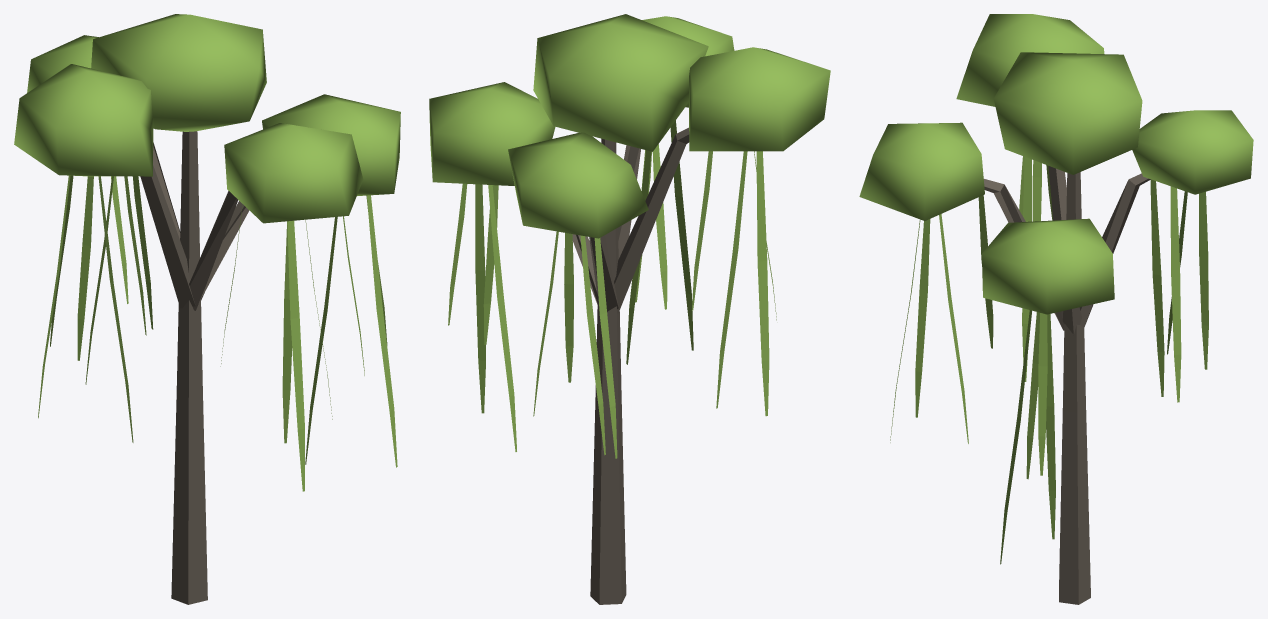
3 views of the same model, side by side, from view 1: azimuth 30°, elevation 25°; view 2: azimuth 150°, elevation 25°; view 3: azimuth 270°, elevation 25° (orthographic). The views are drawn at different scales.
Visible parts, largest first — view 1: 树_15; view 2: 树_15; view 3: 树_15.
Boxes of the visible parts, x1,y1,x2,y2 form: 树_15: [14, 14, 400, 604]; 树_15: [429, 14, 830, 604]; 树_15: [859, 14, 1253, 604].
Bounding box in the file's own units: 5.81 × 8.6 × 5.72.
